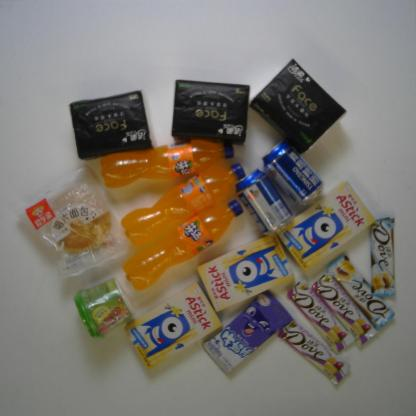Alcohol: (261, 139, 324, 208), (235, 166, 292, 236)
Candy: (201, 288, 293, 377)
Chocolate: (325, 250, 395, 330), (276, 319, 350, 387), (312, 271, 378, 347), (287, 281, 355, 354), (369, 216, 398, 298)
Dessert: (21, 166, 130, 283), (119, 283, 223, 372), (276, 180, 372, 271), (194, 232, 298, 312)
Drink: (123, 200, 243, 294), (120, 160, 244, 246), (100, 140, 238, 187)
Instant Drink: (71, 277, 132, 337)
Tissue: (250, 58, 346, 154), (68, 90, 154, 161), (169, 77, 250, 144)
